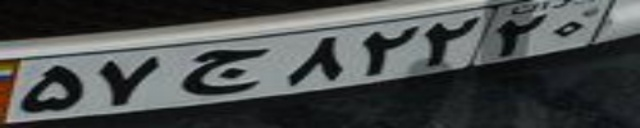0: (550, 20, 587, 37)
2: (360, 25, 418, 77), (425, 16, 478, 68), (495, 14, 543, 56)
5: (21, 65, 81, 112)
7: (96, 54, 156, 107)
8: (285, 37, 342, 84)
jim: (181, 48, 268, 94)
